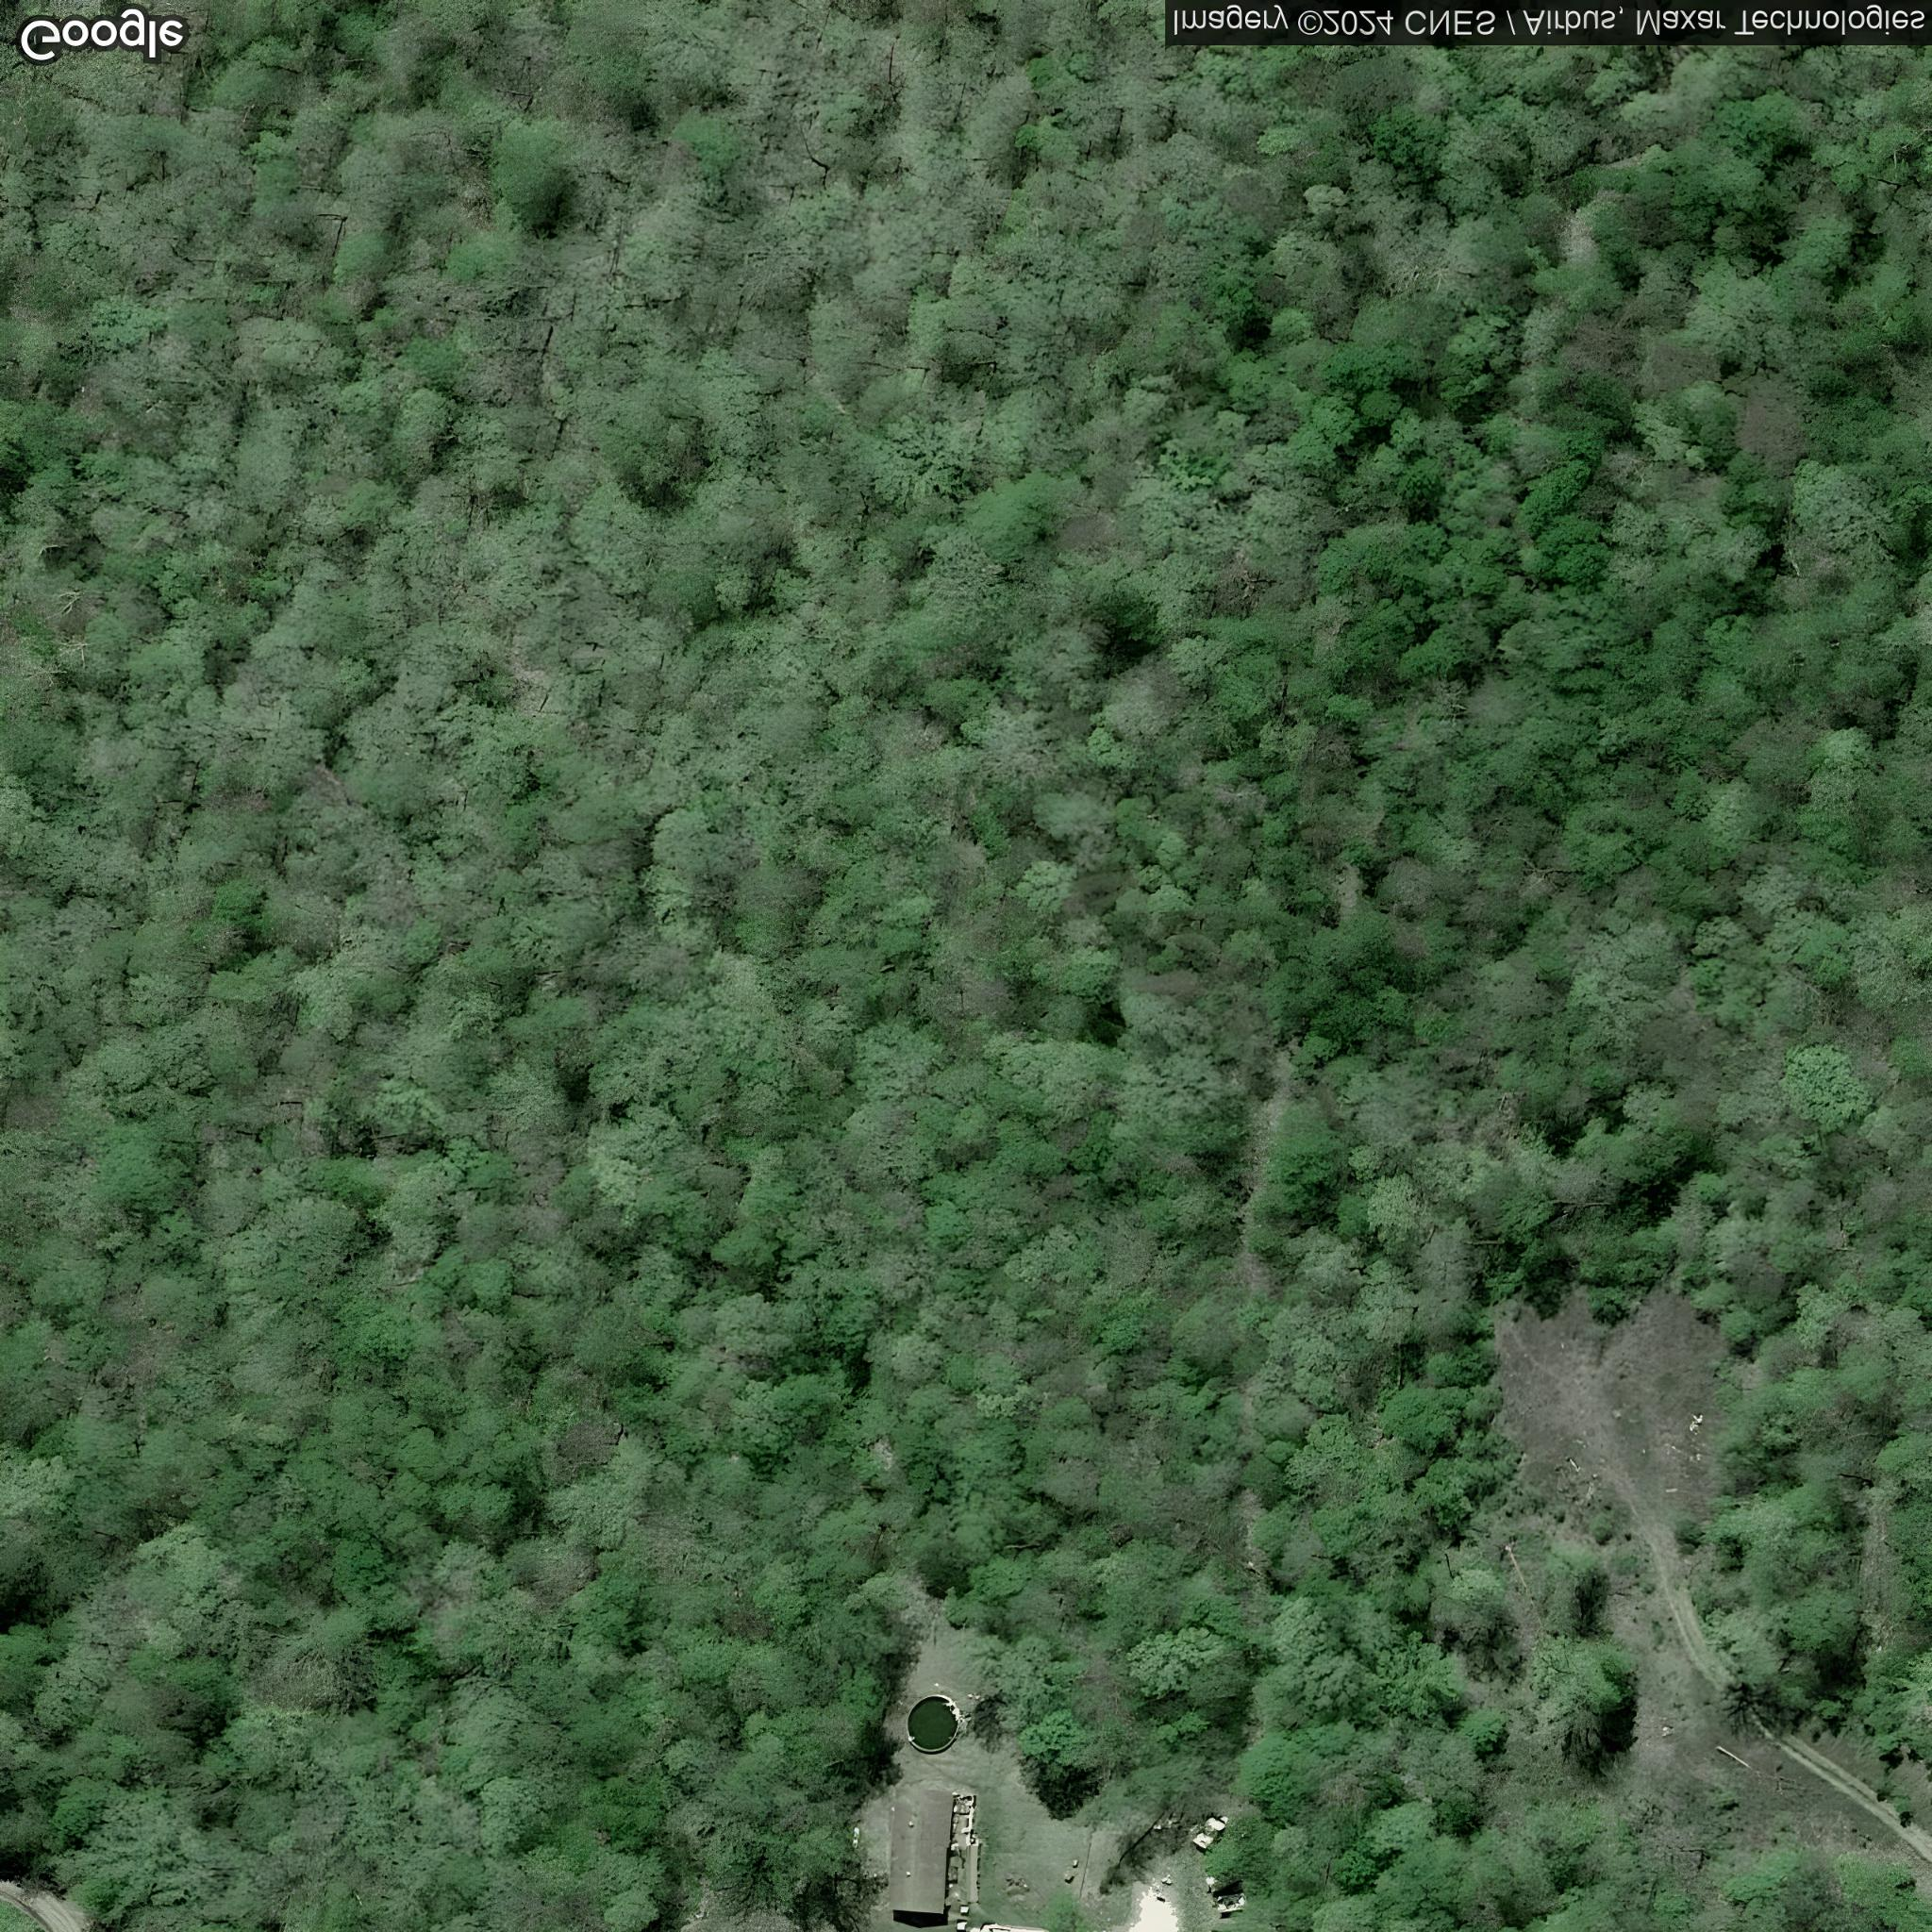House: (890, 1787, 954, 1913)
